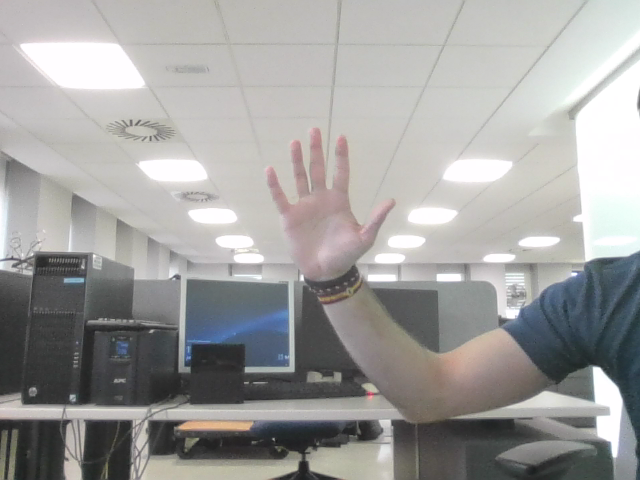Mano Abierta: (275, 139, 381, 253)
